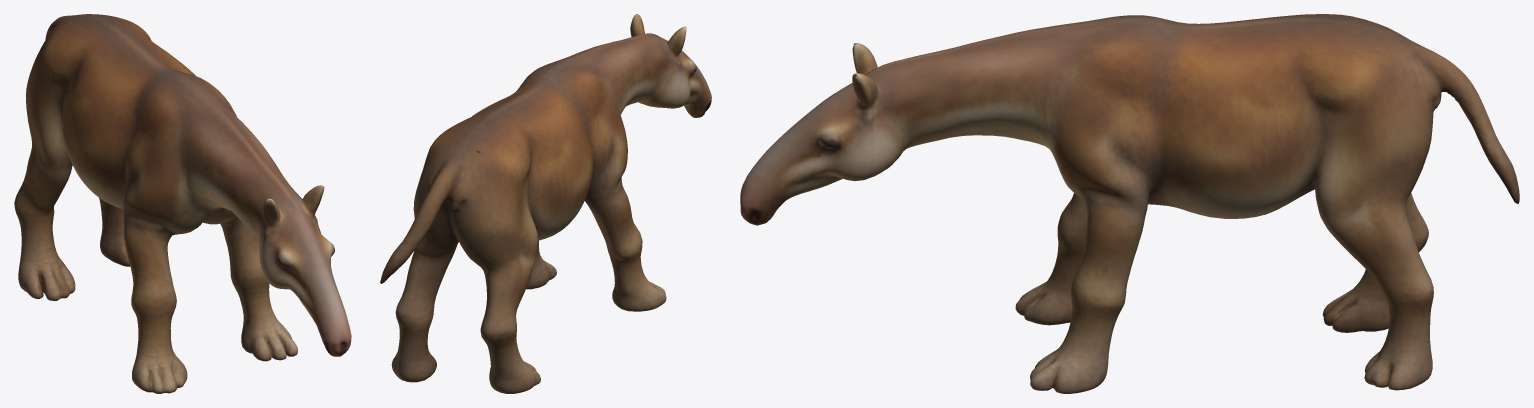
3 views of the same model, side by side, from view 1: azimuth 30°, elevation 25°; view 2: azimuth 150°, elevation 25°; view 3: azimuth 270°, elevation 25° (orthographic). The views are drawn at different scales.
Visible parts, largest first — view 1: world; view 2: world; view 3: world.
Part boxes in pixels (x1,y1,x2,y2): world: (14,14,351,393); world: (380,14,711,393); world: (740,14,1519,393).
Size of the model in its own units: 0.8831 by 1.41 by 3.
Materials: 1 (1 with a texture image).
